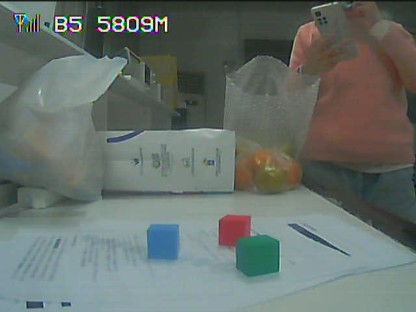b: (147, 227, 179, 259)
g: (239, 238, 279, 273)
r: (221, 215, 246, 241)
